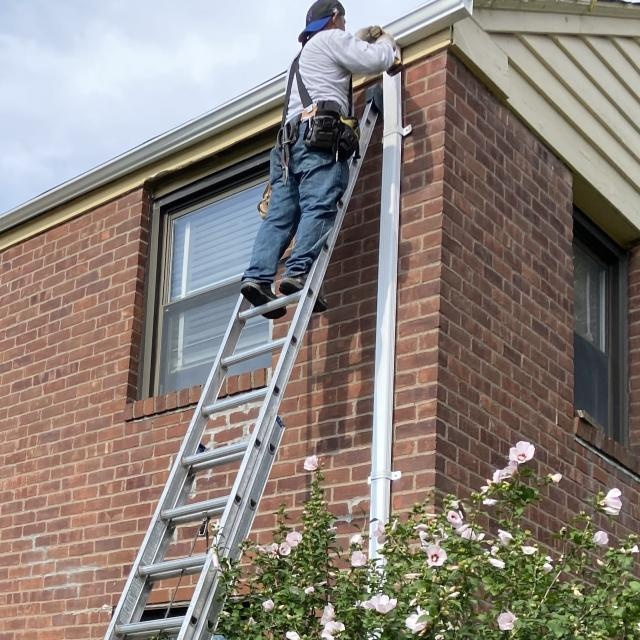Arnes_seguridad: (277, 41, 358, 164)
